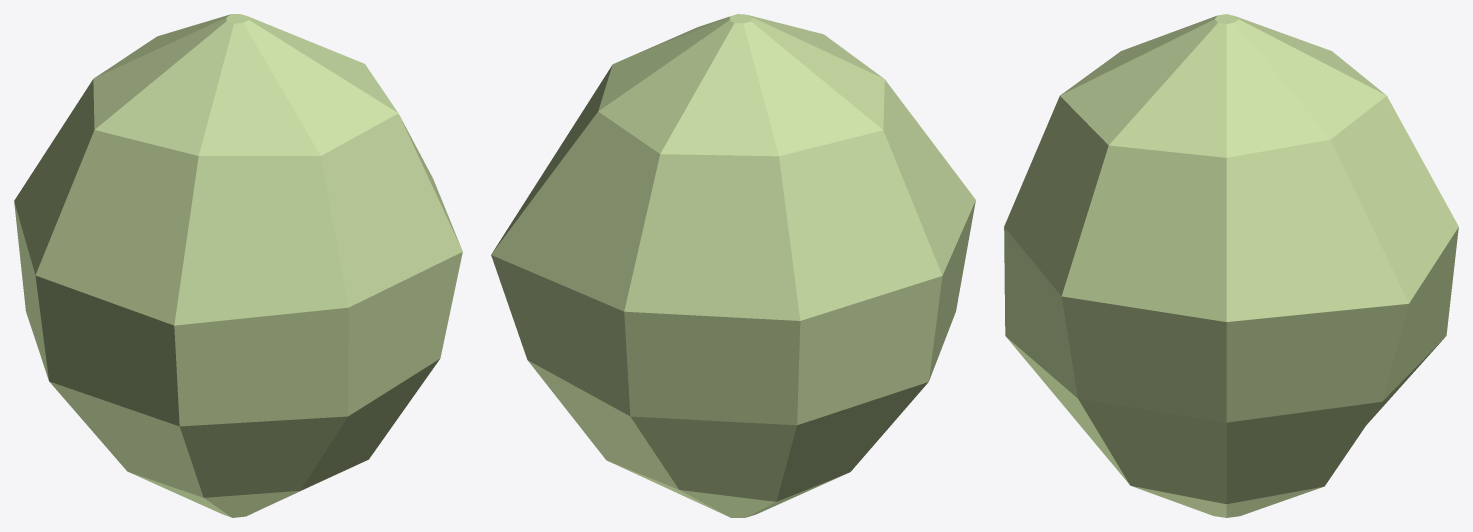
Rendered from enemy-wisp.glb.
3 views of the same model, side by side, from view 1: azimuth 30°, elevation 25°; view 2: azimuth 150°, elevation 25°; view 3: azimuth 270°, elevation 25° (orthographic).
Visible parts, largest first — view 1: body; view 2: body; view 3: body.
Boxes of the visible parts, <box> form: body: <box>14,14,462,517</box>; body: <box>491,14,975,517</box>; body: <box>1004,14,1458,517</box>.
Size of the model in its own units: 0.7618 by 0.9 by 0.7549.
